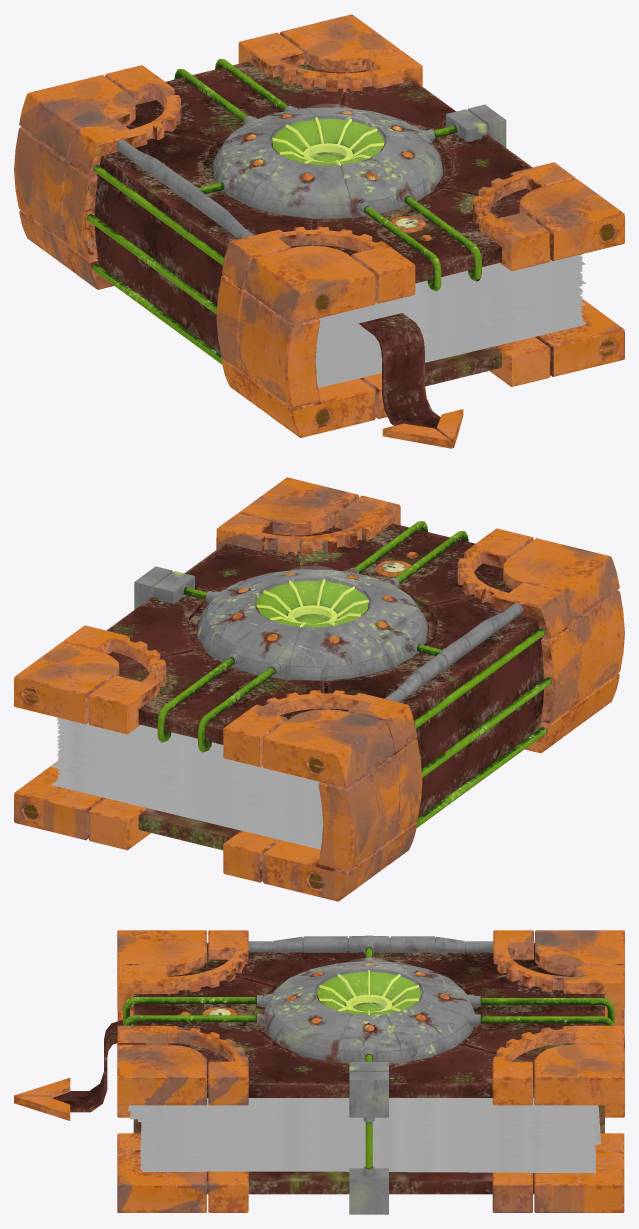
File: steampunk_book-transformed.glb
The picture shows the model from 3 angles, top to bottom: view 1: azimuth 30°, elevation 25°; view 2: azimuth 150°, elevation 25°; view 3: azimuth 270°, elevation 25°; orthographic projection. The views are drawn at different scales.
Visible parts, largest first — view 1: Object_2, Object_5; view 2: Object_2, Object_5; view 3: Object_2, Object_5.
Part boxes in pixels (x1,y1,x2,y2): Object_2: [14, 14, 624, 448]; Object_5: [272, 104, 418, 222]; Object_2: [14, 477, 624, 901]; Object_5: [256, 562, 404, 607]; Object_2: [14, 930, 624, 1214]; Object_5: [209, 958, 421, 1013].
Bounding box in the file's own units: 7.08 × 3.73 × 11.68.
2 materials, 2 textured.
